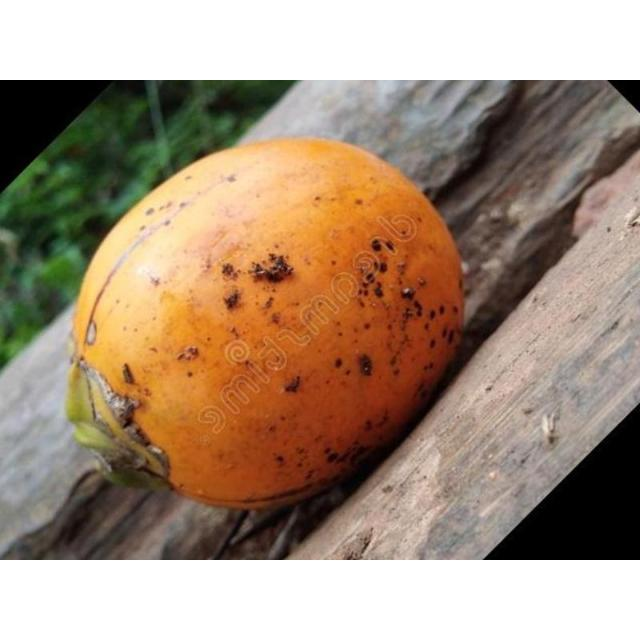good: (62, 137, 466, 513)
